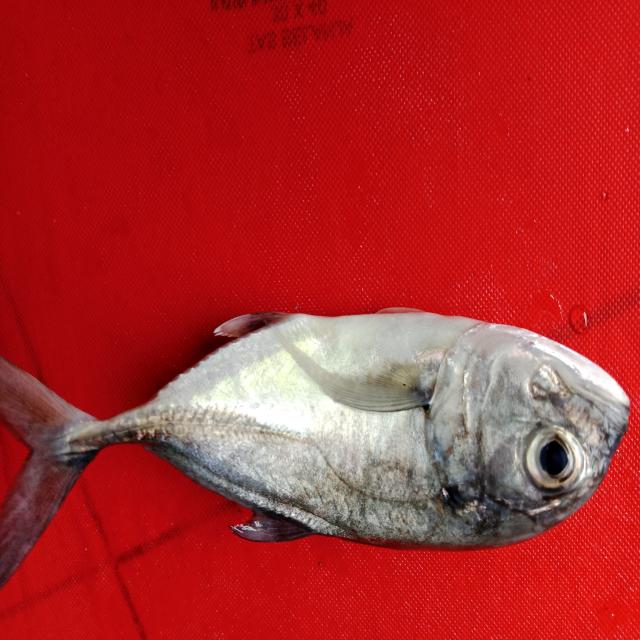ikan: (24, 277, 630, 572)
